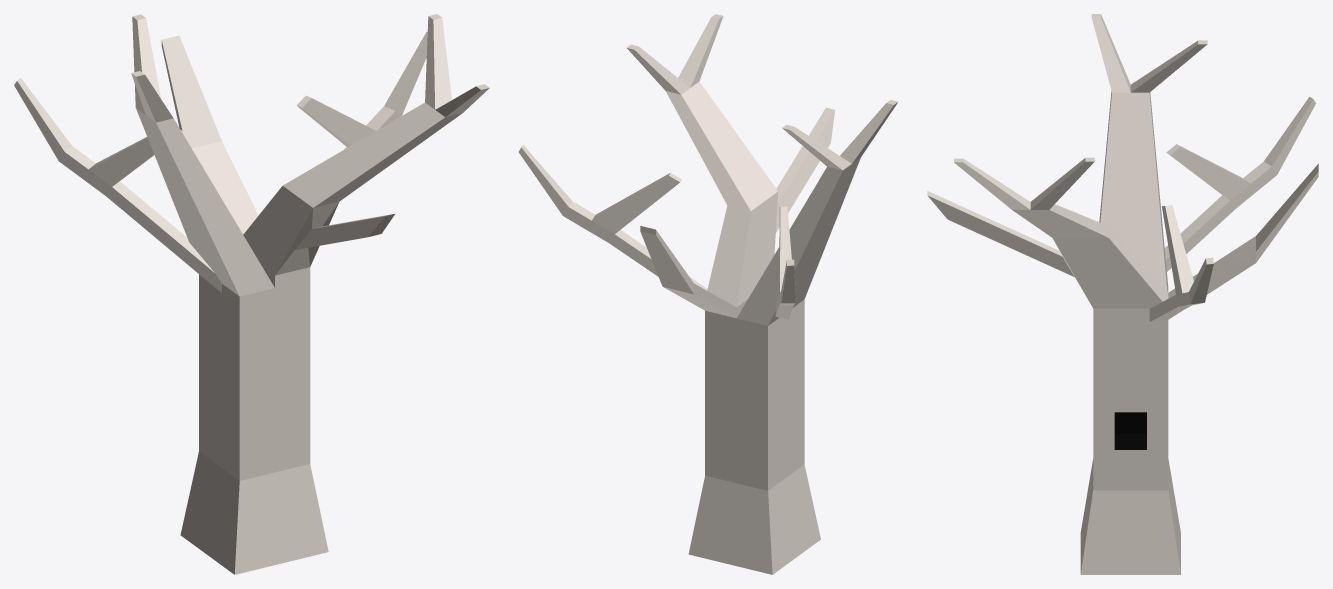
The model's file is tree_3.gltf.
3 views of the same model, side by side, from view 1: azimuth 30°, elevation 25°; view 2: azimuth 150°, elevation 25°; view 3: azimuth 270°, elevation 25° (orthographic). The views are drawn at different scales.
Parts seen in each view (by area): view 1: cuboid (×3); view 2: cuboid (×3); view 3: cuboid (×3).
Boxes of the visible parts, x1=… form: cuboid (×3): x1=14, y1=14, x2=489, y2=574; cuboid (×3): x1=518, y1=14, x2=897, y2=574; cuboid (×3): x1=927, y1=14, x2=1318, y2=574.
Bounding box in the file's own units: 1.93 × 2.62 × 1.95.
Materials: 1 (1 with a texture image).
